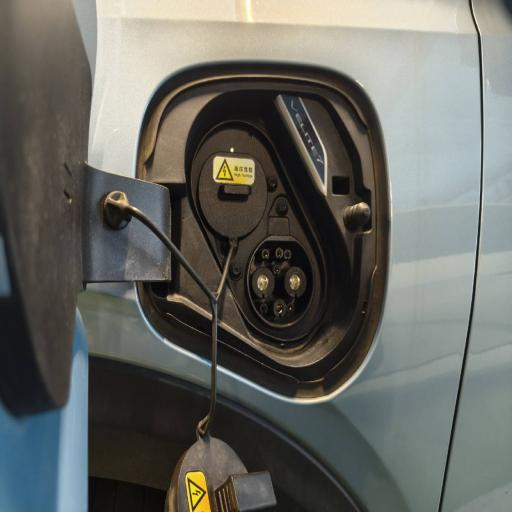DC_hole: (251, 268, 275, 300), (284, 266, 308, 298)
PE: (273, 300, 288, 320)
charging_port: (244, 232, 318, 330)
